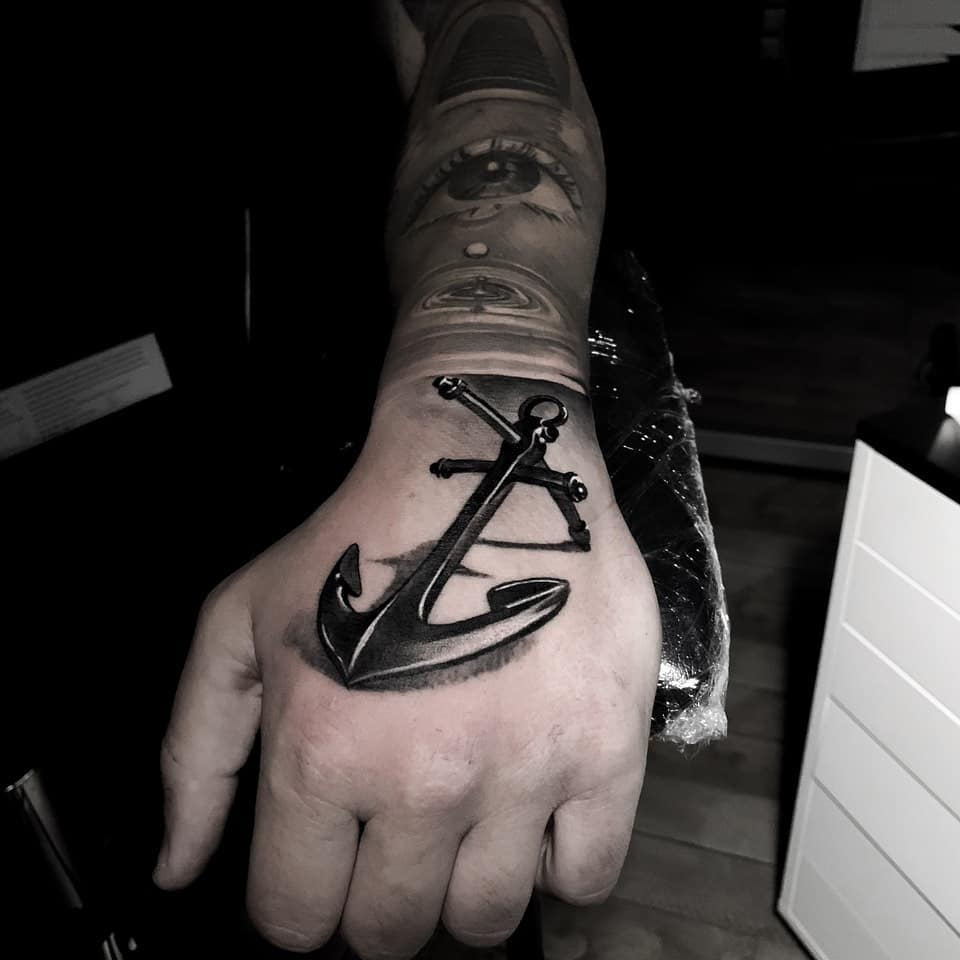hand: (178, 350, 626, 926)
